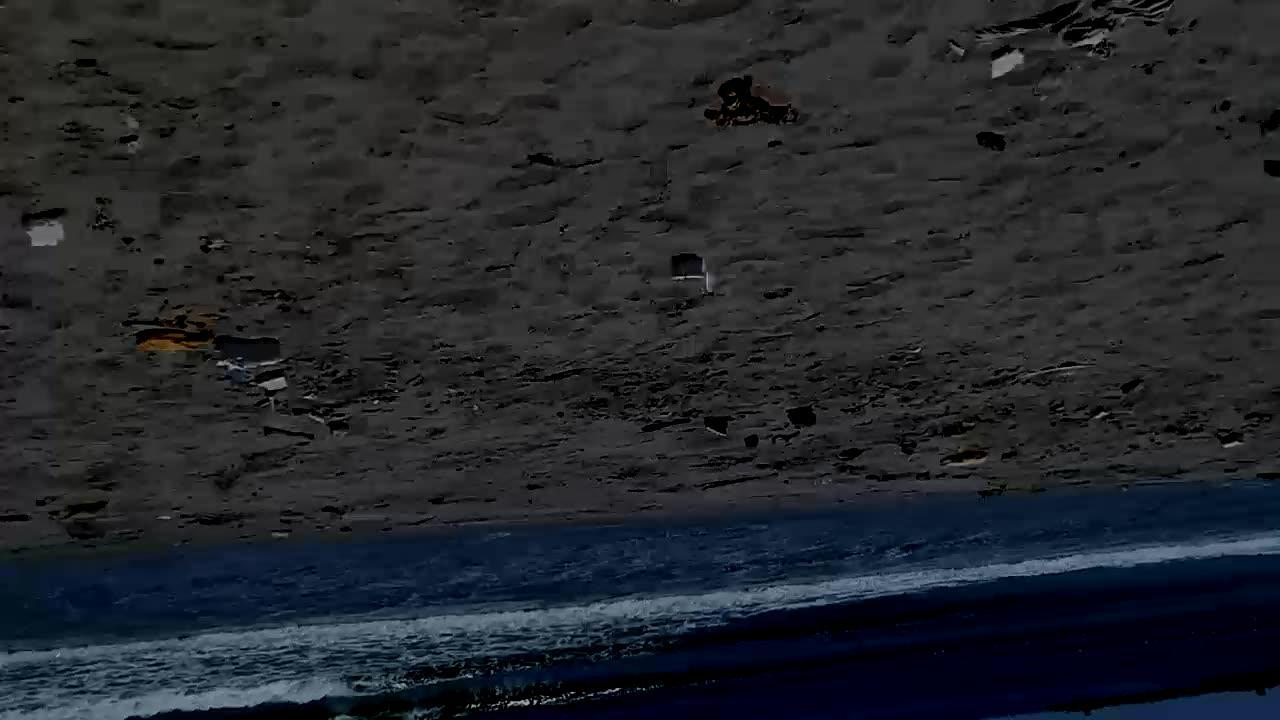obj: (976, 1, 1179, 47), (693, 68, 807, 132), (214, 336, 280, 370), (139, 330, 214, 354), (670, 253, 712, 292), (989, 44, 1029, 83), (20, 212, 64, 246), (639, 417, 691, 434), (939, 450, 989, 467), (789, 406, 821, 431), (252, 369, 290, 389), (266, 426, 320, 440), (706, 419, 730, 437), (1219, 431, 1243, 447), (1220, 440, 1244, 451), (746, 436, 758, 452)
sand/background: (0, 480, 1280, 719)
